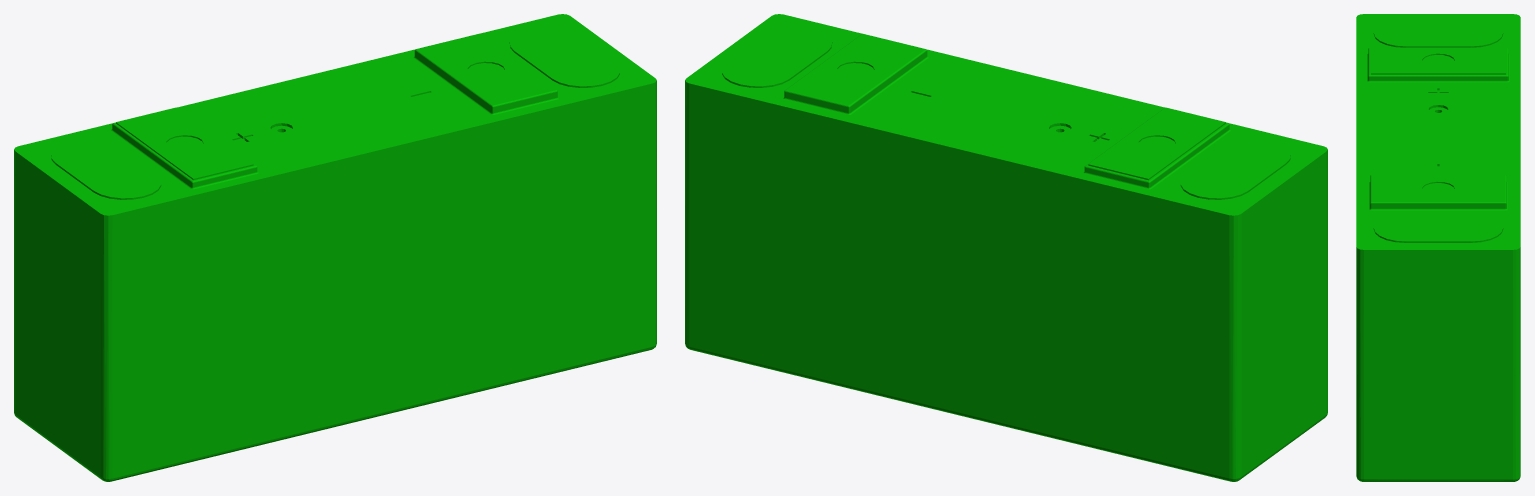
3 views of the same model, side by side, from view 1: azimuth 30°, elevation 25°; view 2: azimuth 150°, elevation 25°; view 3: azimuth 270°, elevation 25° (orthographic). The views are drawn at different scales.
Bounding box in the file's own units: 0.221 × 0.1052 × 0.065.
